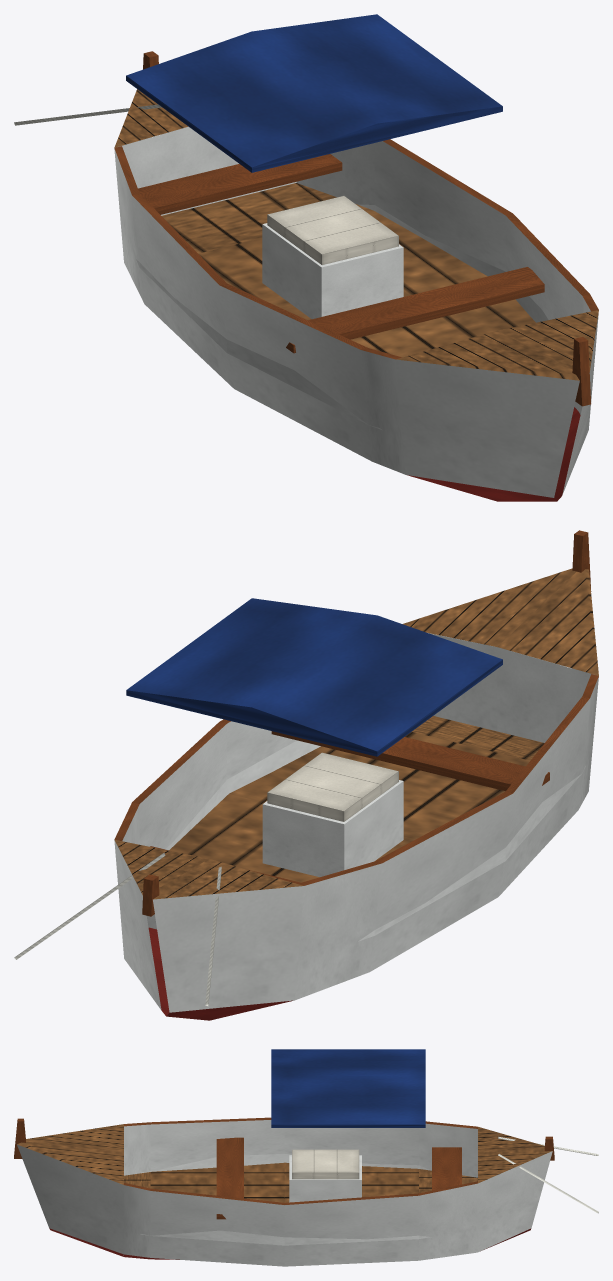
Rendered from SM_Morin_Barca_Gozzo_FasciaAzzurra_LOD2.fbx.
3 views of the same model, one above another, from view 1: azimuth 30°, elevation 25°; view 2: azimuth 150°, elevation 25°; view 3: azimuth 270°, elevation 25° (orthographic). The views are drawn at different scales.
Visible parts, largest first — view 1: SM_Morin_Barca_Gozzo_FasciaAzzurra_LOD2; view 2: SM_Morin_Barca_Gozzo_FasciaAzzurra_LOD2; view 3: SM_Morin_Barca_Gozzo_FasciaAzzurra_LOD2.
Boxes of the visible parts, bbox=[...] form: SM_Morin_Barca_Gozzo_FasciaAzzurra_LOD2: bbox=[14, 14, 598, 501]; SM_Morin_Barca_Gozzo_FasciaAzzurra_LOD2: bbox=[14, 530, 598, 1020]; SM_Morin_Barca_Gozzo_FasciaAzzurra_LOD2: bbox=[14, 1049, 598, 1266].
Size of the model in its own units: 229 by 644 by 222.
1 material, 1 textured.
